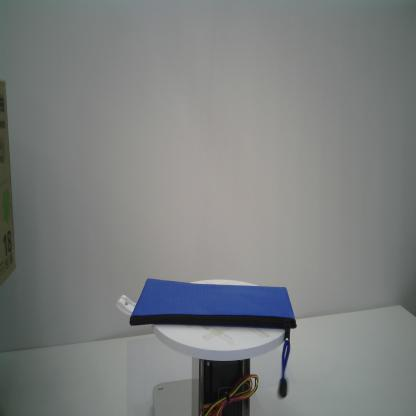Stationery: (114, 275, 298, 401)
